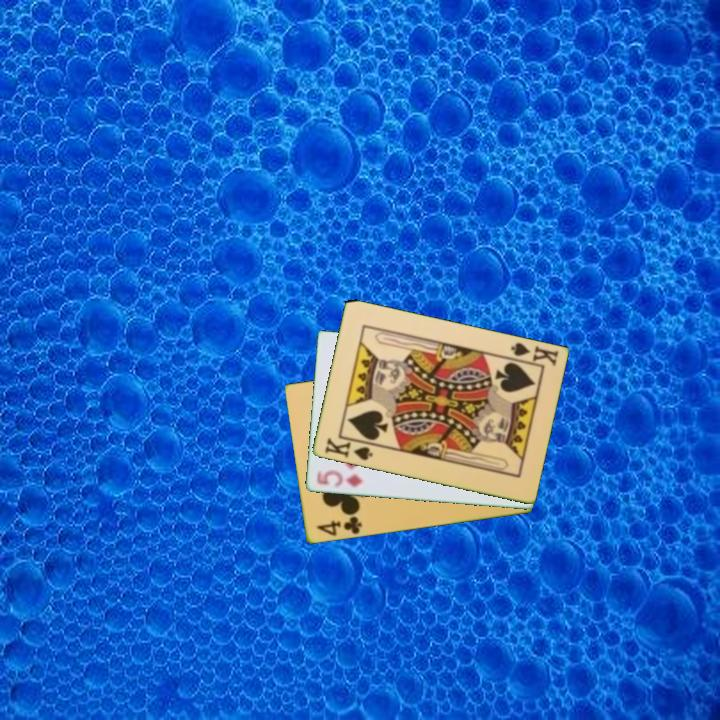4c: (313, 511, 364, 539)
5d: (313, 467, 366, 491)
Ks: (503, 339, 561, 369), (321, 434, 377, 464)
